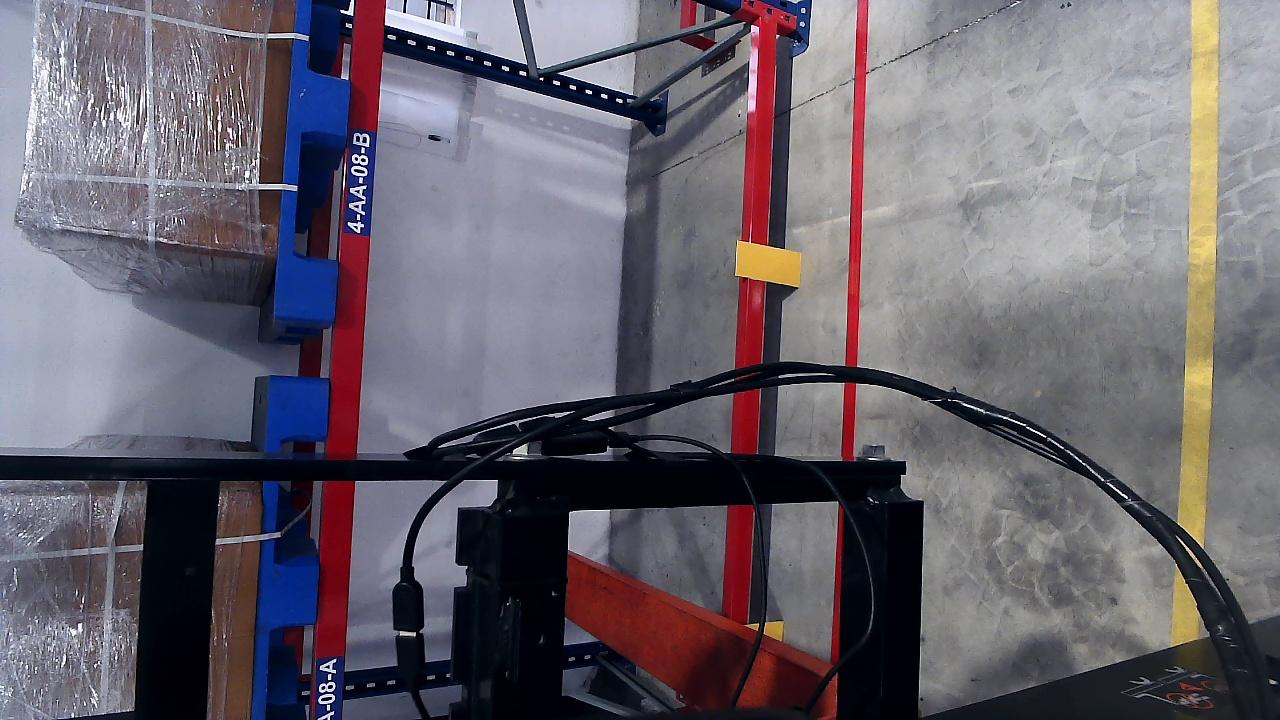h_rack: (322, 0, 390, 472), (742, 17, 780, 353), (311, 482, 358, 719)
orange_strip: (735, 241, 801, 287)
red_line: (843, 3, 868, 365)
small_pallet: (270, 0, 365, 321)
yellow_line: (1177, 3, 1220, 608)
